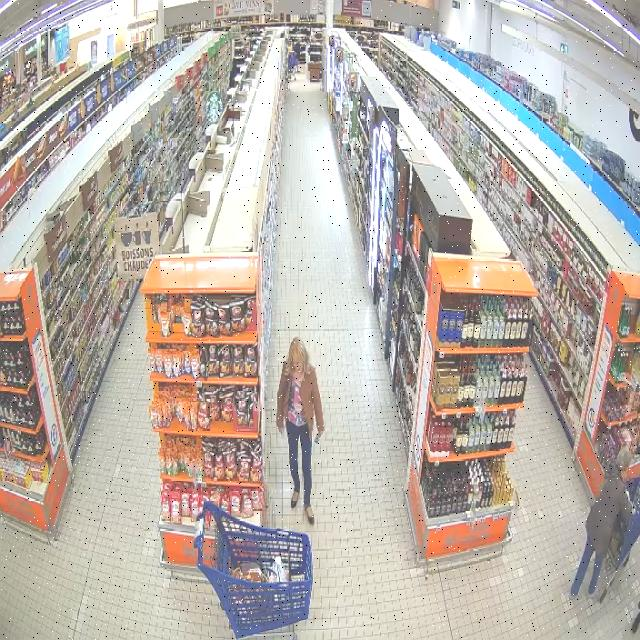article: (315, 433, 320, 443)
hands: (318, 428, 325, 437), (277, 426, 283, 435)
person: (570, 447, 632, 597), (276, 337, 324, 524)
